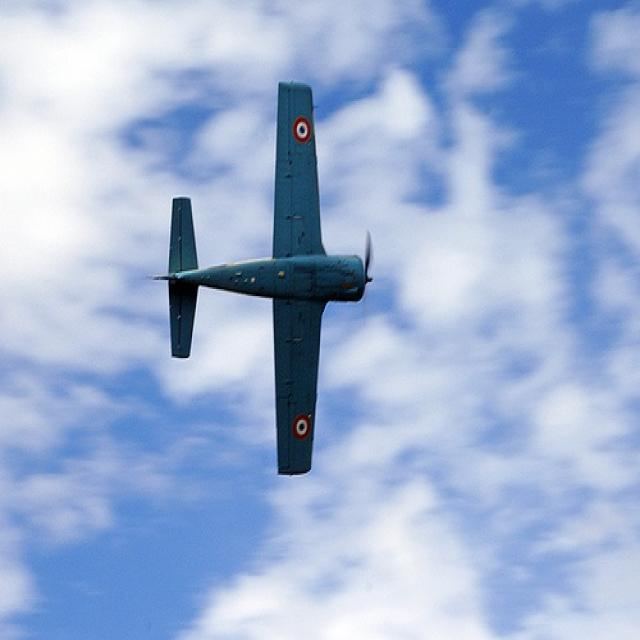aeroplane: (146, 78, 372, 477)
